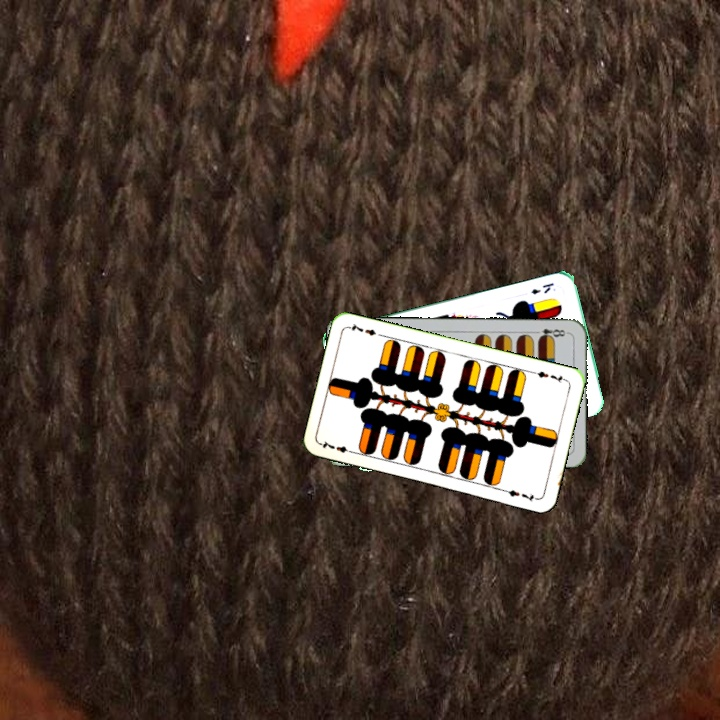E7: (529, 367, 569, 386), (317, 437, 357, 456)
E8: (530, 324, 571, 342)
EK: (527, 279, 556, 297)
